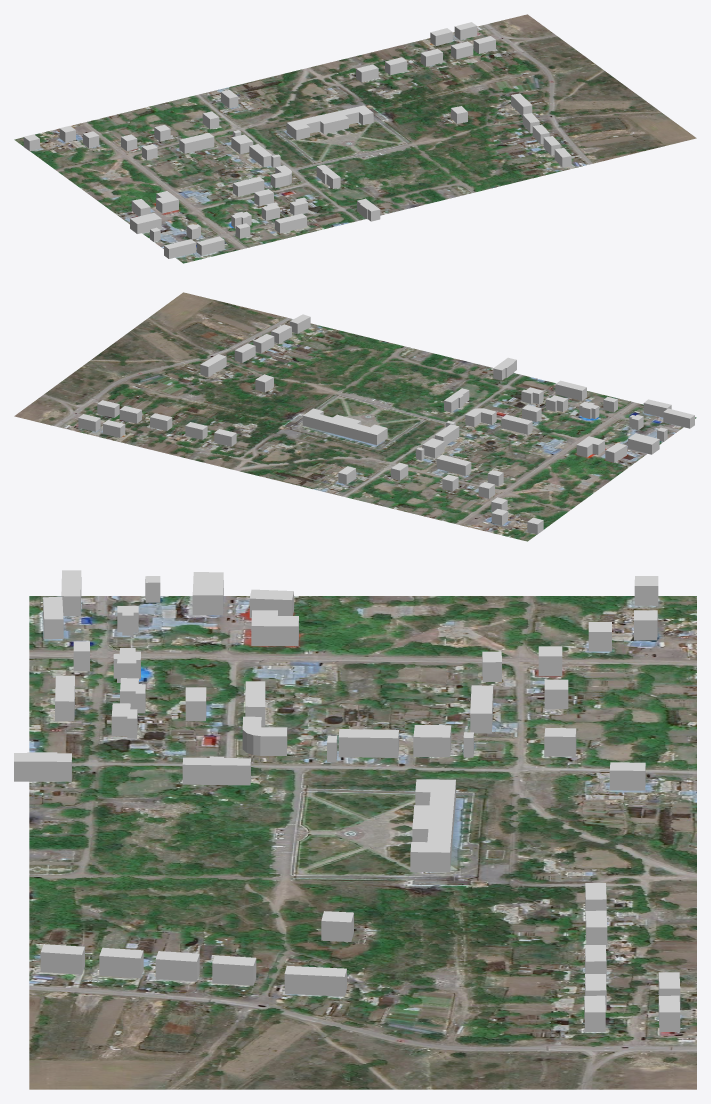
The model's file is KarLag.glb.
The picture shows the model from 3 angles, top to bottom: view 1: azimuth 30°, elevation 25°; view 2: azimuth 150°, elevation 25°; view 3: azimuth 270°, elevation 25°; orthographic projection. The views are drawn at different scales.
Visible parts, largest first — view 1: EXPORT_GOOGLE_SAT_WM, Areas:building; view 2: EXPORT_GOOGLE_SAT_WM, Areas:building; view 3: EXPORT_GOOGLE_SAT_WM, Areas:building.
Part boxes in pixels (x1,y1,x2,y2): EXPORT_GOOGLE_SAT_WM: [14, 14, 696, 263]; Areas:building: [23, 22, 571, 258]; EXPORT_GOOGLE_SAT_WM: [14, 292, 696, 541]; Areas:building: [78, 314, 694, 534]; EXPORT_GOOGLE_SAT_WM: [29, 596, 696, 1089]; Areas:building: [14, 570, 680, 1032].
Size of the model in its own units: 1.79e+07 by 413538 by 1.03e+07.
2 materials, 1 textured.
